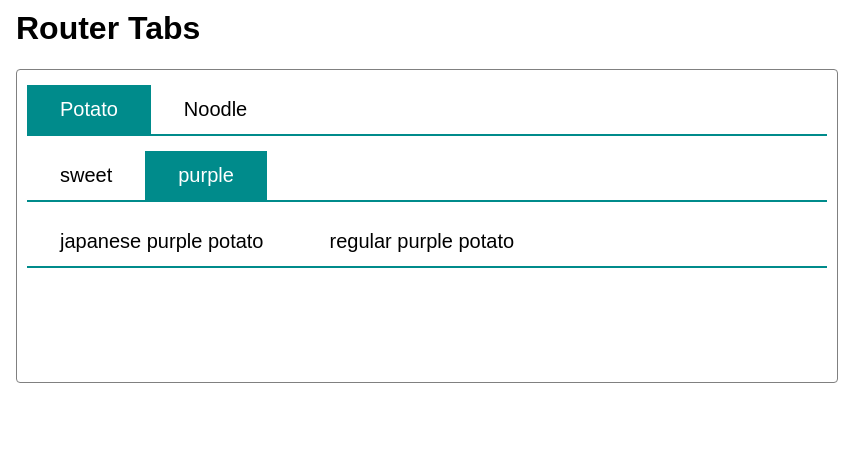
Scenario: TabList › Test that the correct tabpanel for regular purple potato renders via url changes
Click the tab with test id "regular" at (422, 241), box [296,217,547,266]
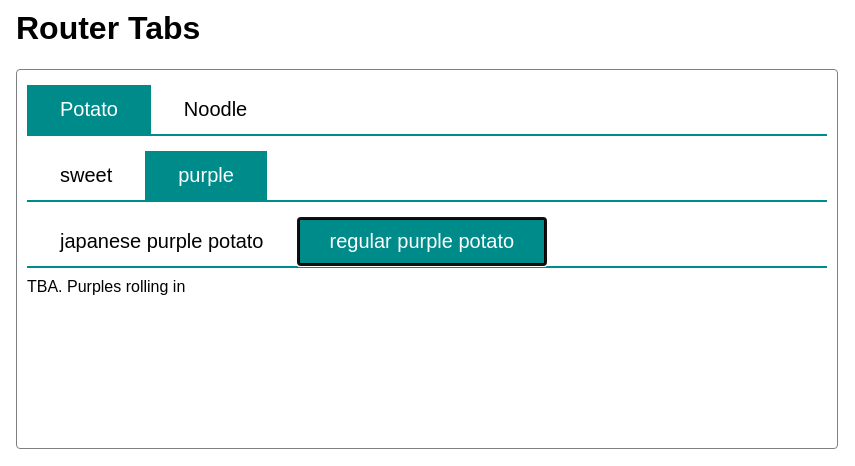
Expected: the text "TBA. Purples rolling in" is shown, [27,278,827,438]
